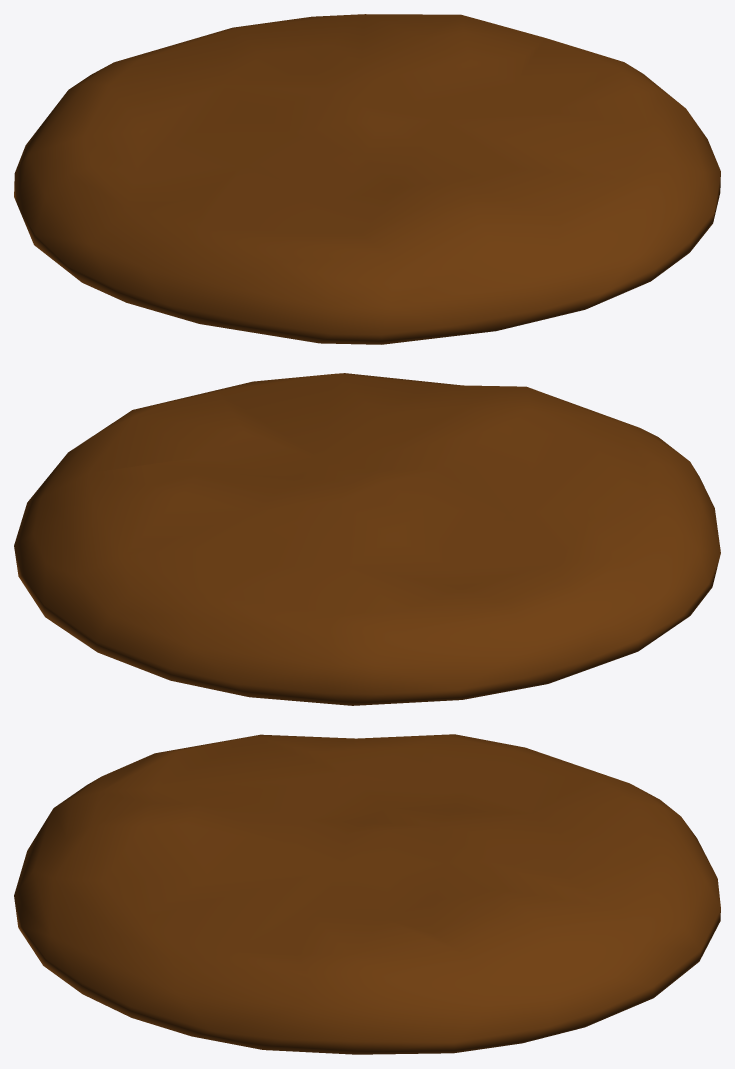
3 views of the same model, one above another, from view 1: azimuth 30°, elevation 25°; view 2: azimuth 150°, elevation 25°; view 3: azimuth 270°, elevation 25° (orthographic).
Visible parts, largest first — view 1: choco_ice; view 2: choco_ice; view 3: choco_ice.
Boxes of the visible parts, box(x1,y1,x2,y2) form: choco_ice: box(14, 14, 720, 344); choco_ice: box(14, 373, 720, 705); choco_ice: box(14, 734, 720, 1054).
Bounding box in the file's own units: 1.25 × 0.1639 × 1.25.
